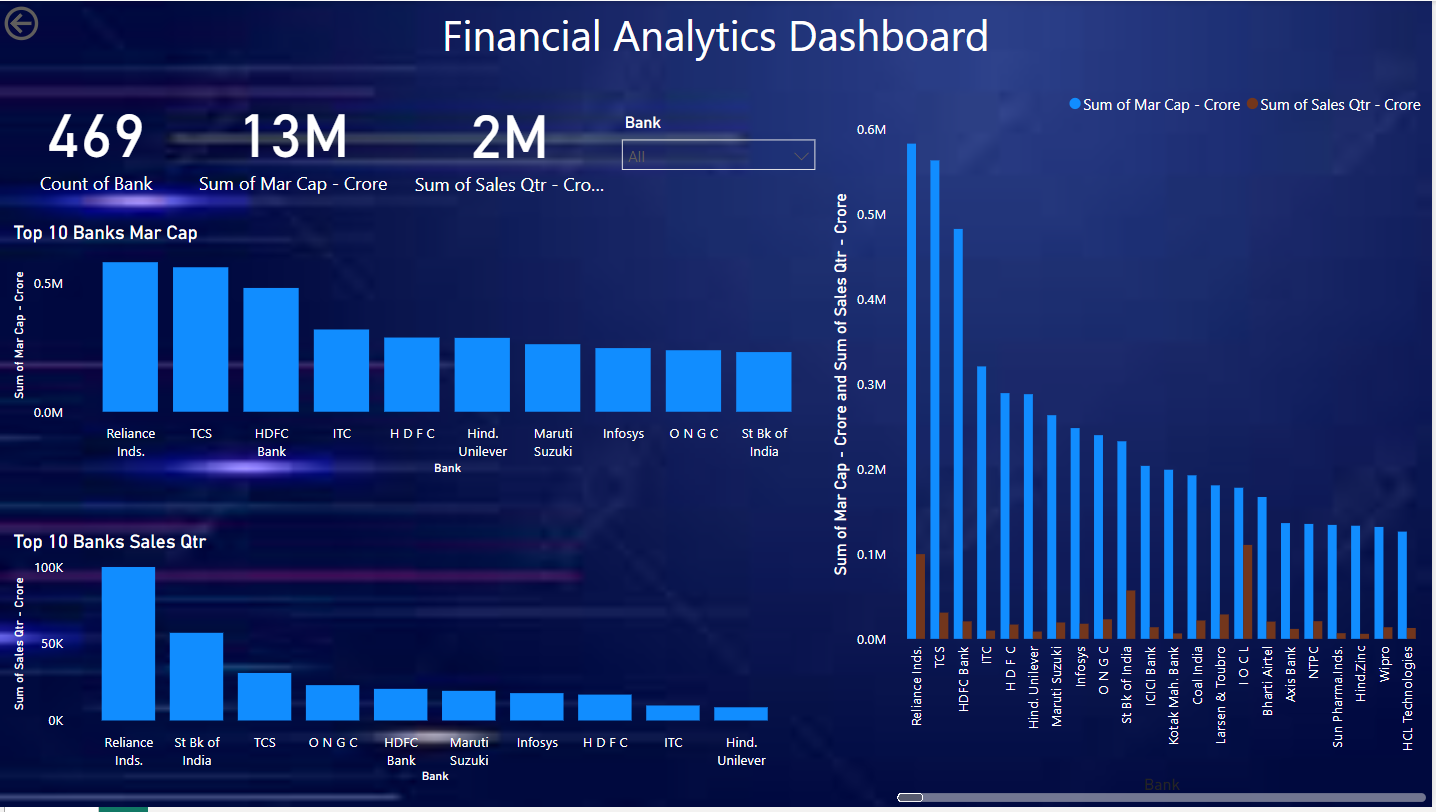

The page's visual inventory and layout, read from the dashboard file:
{"tool":"powerbi","page":{"name":"Page 1","canvas":[1280,720],"ordinal":0},"visuals":[{"type":"card","fields":{"Values":["Count(Financial Analytics data.Name)"]},"box":[9.6,71.4,153.7,105.7],"z":0},{"type":"textbox","box":[0,0,1280.3,61.7],"z":1000},{"type":"card","fields":{"Values":["Sum(Financial Analytics data.Mar Cap - Crore)"]},"box":[172.9,71.4,179.8,105.7],"z":2000},{"type":"card","fields":{"Values":["Sum(Financial Analytics data.Sales Qtr - Crore)"]},"box":[366.4,72.7,179.8,105.7],"z":3000},{"type":"clusteredColumnChart","title":"Top 10 Banks Mar Cap","fields":{"Category":["Financial Analytics data.Bank"],"Y":["Sum(Financial Analytics data.Mar Cap - Crore)"]},"box":[8.1,196.5,731.4,231.4],"z":4000},{"type":"clusteredColumnChart","title":"Top 10 Banks Sales Qtr","fields":{"Category":["Financial Analytics data.Bank"],"Y":["Sum(Financial Analytics data.Sales Qtr - Crore)"]},"box":[8.1,472.1,709.3,231.4],"z":5000},{"type":"clusteredColumnChart","fields":{"Category":["Financial Analytics data.Bank"],"Y":["Sum(Financial Analytics data.Mar Cap - Crore)","Sum(Financial Analytics data.Sales Qtr - Crore)"]},"box":[739.6,71.4,540.7,649.1],"z":6000},{"type":"actionButton","box":[0,0,100,40],"z":7000},{"type":"slicer","fields":{"Values":["Financial Analytics data.Bank"]},"box":[546.5,95.3,193,83.7],"z":7001}]}

Visuals, with their boxes in screenshot pixels (x1, y1, x2, y2), scaled from the page's 1280x720 canvas onto the 1436x812 screenshot:
card - Count(Financial Analytics data.Name): locate(11, 81, 183, 200)
textbox: locate(0, 0, 1435, 70)
card - Sum(Financial Analytics data.Mar Cap - Crore): locate(194, 81, 396, 200)
card - Sum(Financial Analytics data.Sales Qtr - Crore): locate(411, 82, 613, 201)
"Top 10 Banks Mar Cap" clusteredColumnChart: locate(9, 222, 830, 483)
"Top 10 Banks Sales Qtr" clusteredColumnChart: locate(9, 532, 805, 793)
clusteredColumnChart - Financial Analytics data.Bank x Sum(Financial Analytics data.Mar Cap - Crore): locate(830, 81, 1435, 811)
actionButton: locate(0, 0, 112, 45)
slicer - Financial Analytics data.Bank: locate(613, 107, 830, 202)
